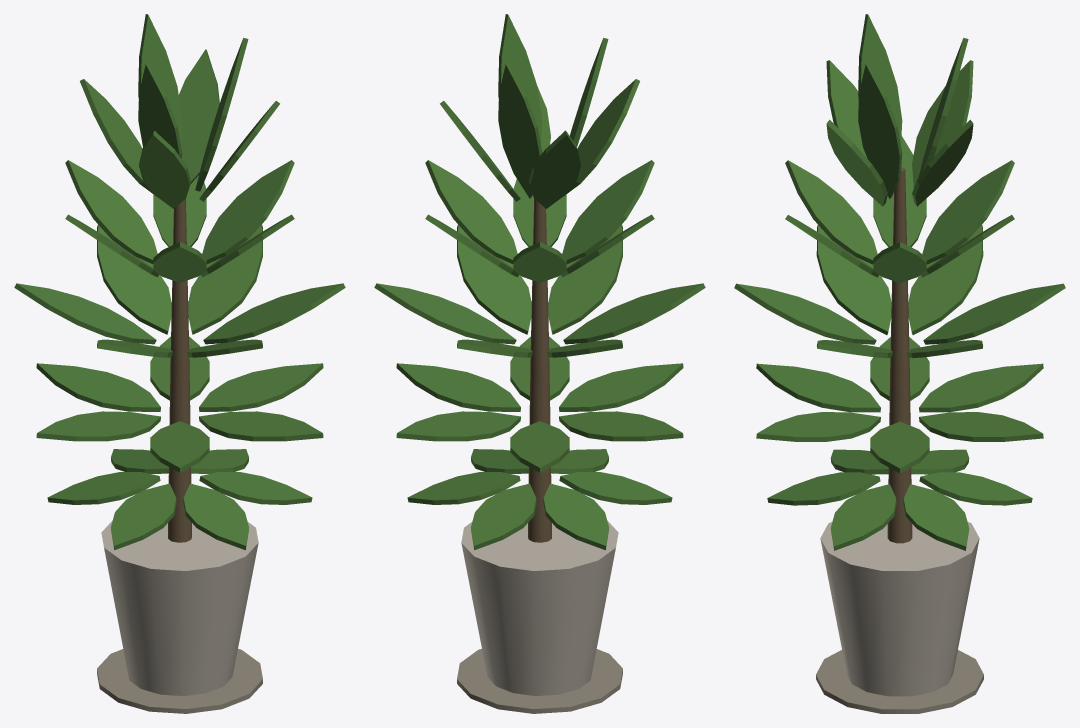
File: plant-lite.glb
The picture shows the model from 3 angles, left to right: view 1: azimuth 30°, elevation 25°; view 2: azimuth 150°, elevation 25°; view 3: azimuth 270°, elevation 25°; orthographic projection.
Visible parts, largest first — view 1: material-3-foliage, material-0-pot, material-1-base, material-2-frame; view 2: material-3-foliage, material-0-pot, material-1-base, material-2-frame; view 3: material-3-foliage, material-0-pot, material-2-frame, material-1-base.
Part boxes in pixels (x1=…): material-3-foliage: x1=14, y1=14, x2=345, y2=550; material-0-pot: x1=101, y1=521, x2=258, y2=695; material-1-base: x1=97, y1=648, x2=262, y2=713; material-2-frame: x1=168, y1=199, x2=191, y2=542; material-3-foliage: x1=374, y1=14, x2=705, y2=550; material-0-pot: x1=461, y1=521, x2=618, y2=695; material-1-base: x1=457, y1=648, x2=622, y2=713; material-2-frame: x1=528, y1=199, x2=551, y2=542; material-3-foliage: x1=734, y1=14, x2=1065, y2=550; material-0-pot: x1=820, y1=521, x2=979, y2=696; material-2-frame: x1=887, y1=167, x2=912, y2=543; material-1-base: x1=816, y1=650, x2=983, y2=713.
Bounding box in the file's own units: 0.75 × 1.6 × 0.75.
